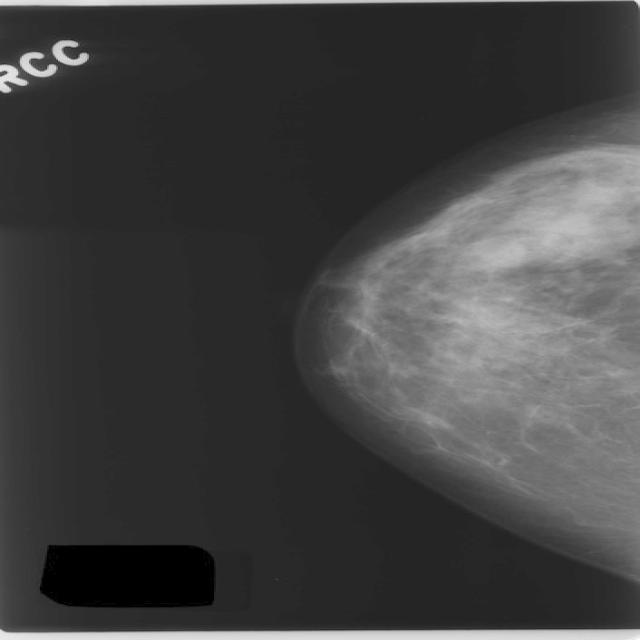tumour: (466, 235, 526, 267)
